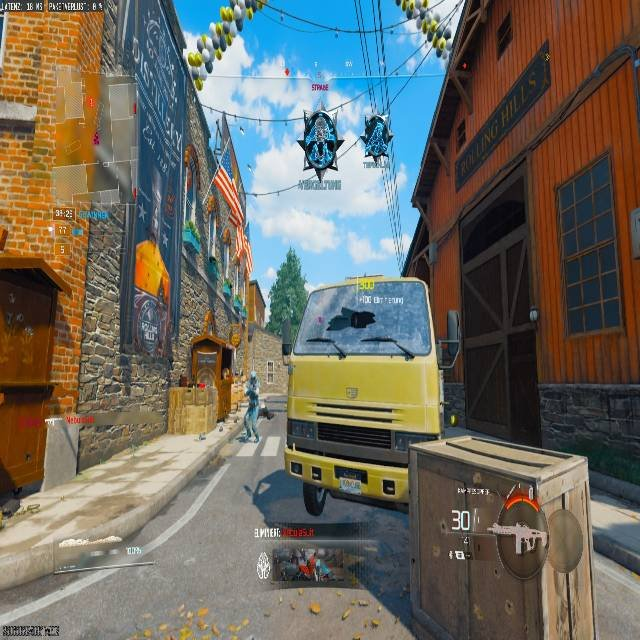head: (250, 373, 257, 383)
player: (300, 112, 342, 183), (240, 374, 262, 442)
